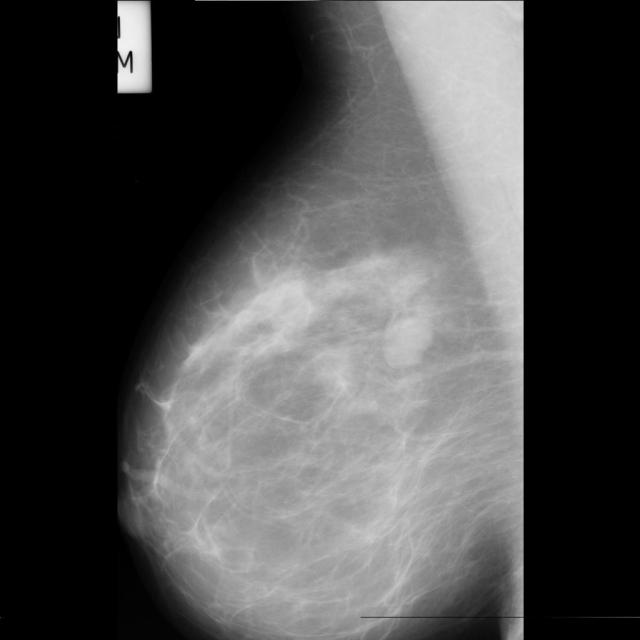tumour: (383, 316, 433, 368)
